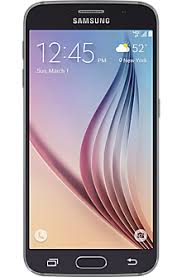samsung: (19, 1, 160, 277)
